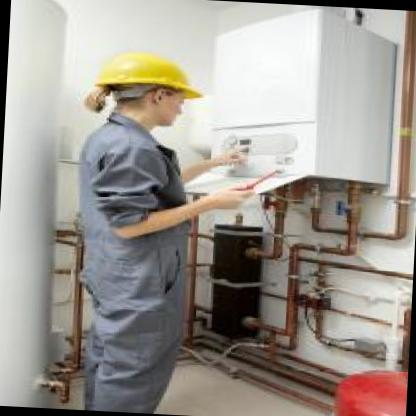helmet: (75, 35, 210, 141)
person: (30, 38, 278, 416)
